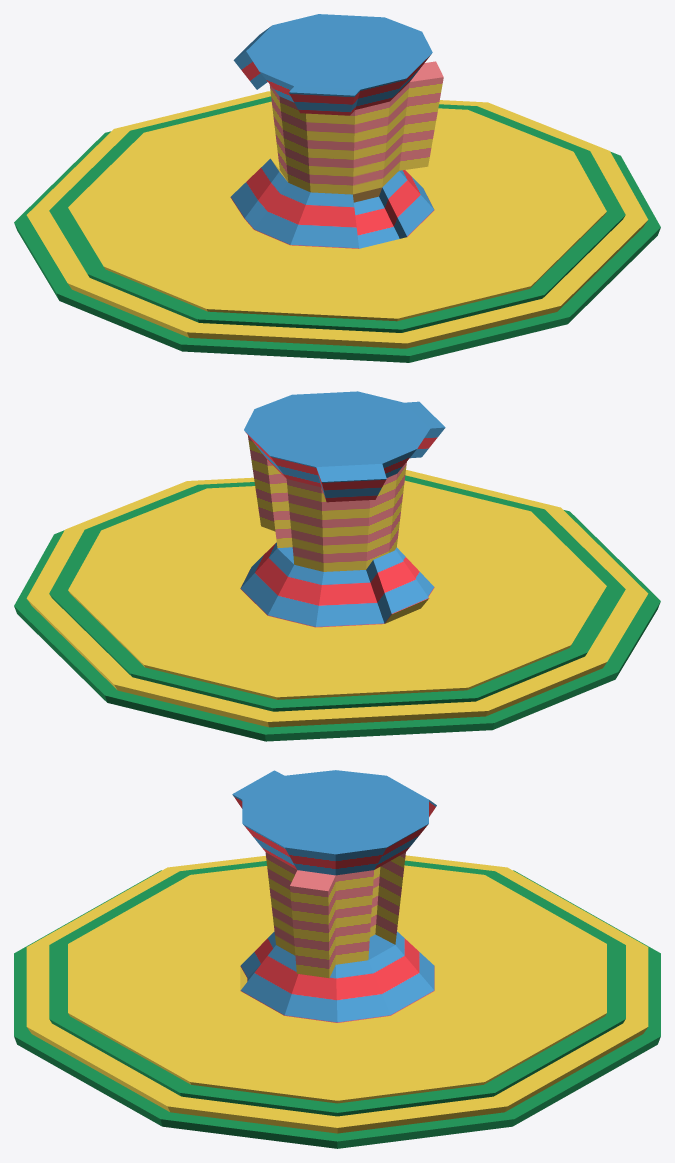
The model's file is M_magnetophone_socle.fbx.
3 views of the same model, one above another, from view 1: azimuth 30°, elevation 25°; view 2: azimuth 150°, elevation 25°; view 3: azimuth 270°, elevation 25° (orthographic). The views are drawn at different scales.
Visible parts, largest first — view 1: Cube.021; view 2: Cube.021; view 3: Cube.021.
Part boxes in pixels (box(x1,y1,x2,y2)): Cube.021: box(14, 14, 660, 362); Cube.021: box(14, 391, 660, 741); Cube.021: box(14, 770, 660, 1148).
Bounding box in the file's own units: 664 × 204 × 622.
